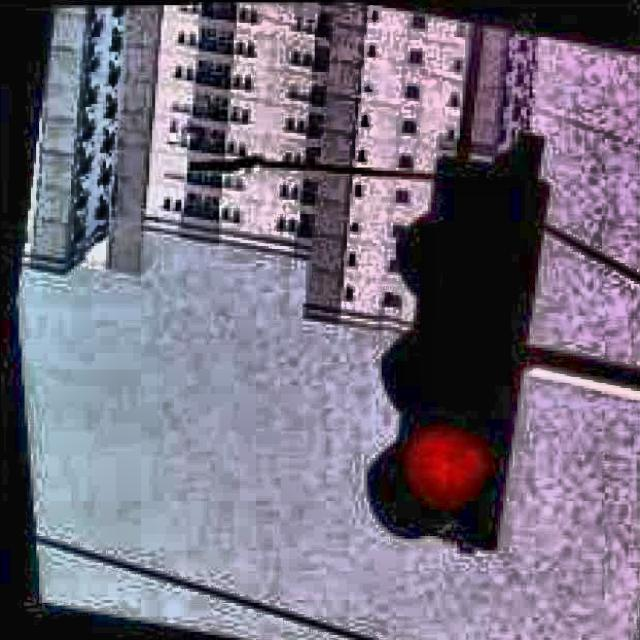red: (372, 167, 542, 547)
